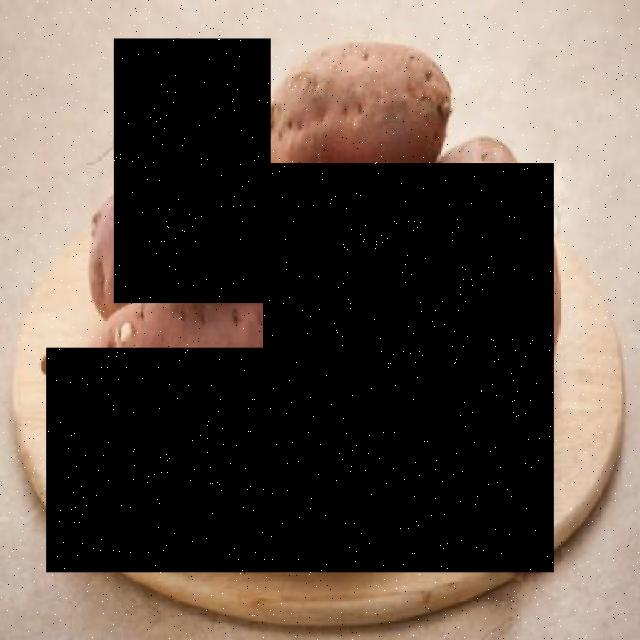Sweet_Potato: (263, 162, 554, 572), (46, 348, 440, 572), (114, 39, 271, 304)
